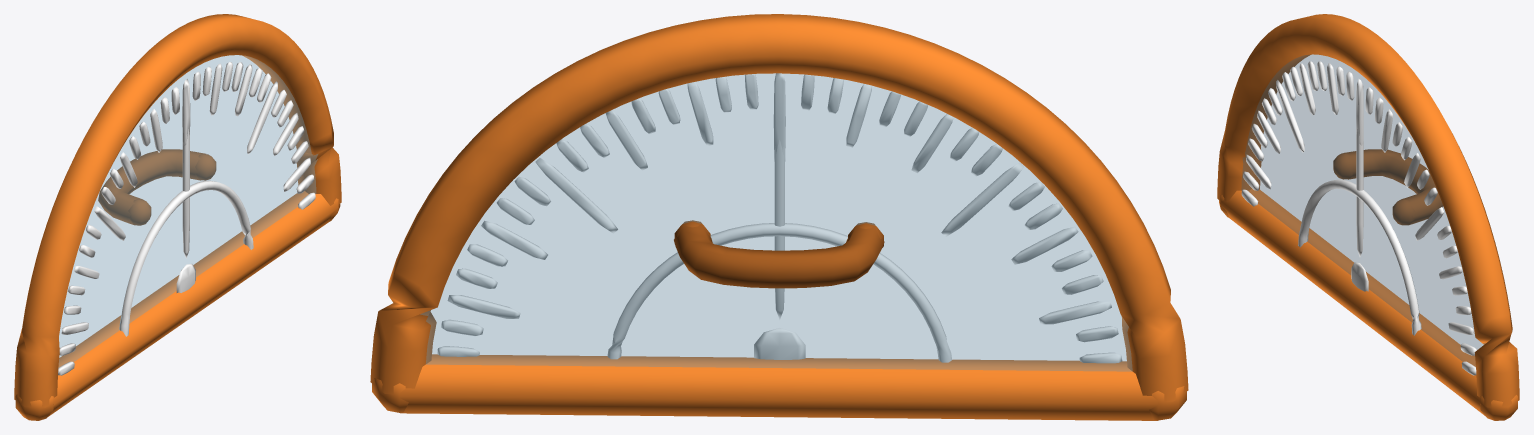
Rendered from hand_bxprot.glb.
3 views of the same model, side by side, from view 1: azimuth 30°, elevation 25°; view 2: azimuth 150°, elevation 25°; view 3: azimuth 270°, elevation 25° (orthographic). The views are drawn at different scales.
Visible parts, largest first — view 1: bxprot; view 2: bxprot; view 3: bxprot.
Part boxes in pixels (x1,y1,x2,y2): bxprot: (14, 14, 341, 420); bxprot: (370, 14, 1188, 420); bxprot: (1217, 14, 1519, 420).
Size of the model in its own units: 2.66 by 1.61 by 1.56.
